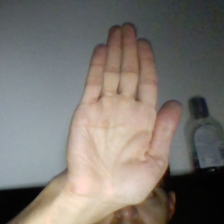left: (57, 20, 185, 205)
